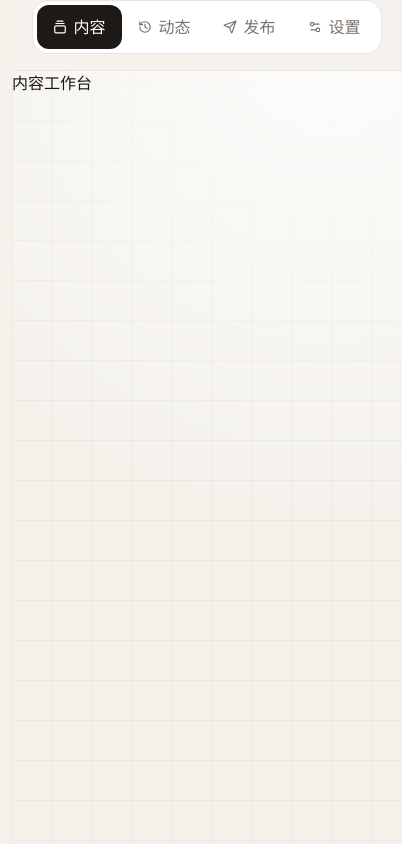
移动端工作台导航 › 点击标签切换工作台
Note: Radix Tabs 在按下时激活，与原生标签控件的行为一致。
Press the mouse on the tab "动态" at point(164, 27), box x1=122 y1=5 x2=207 y2=49
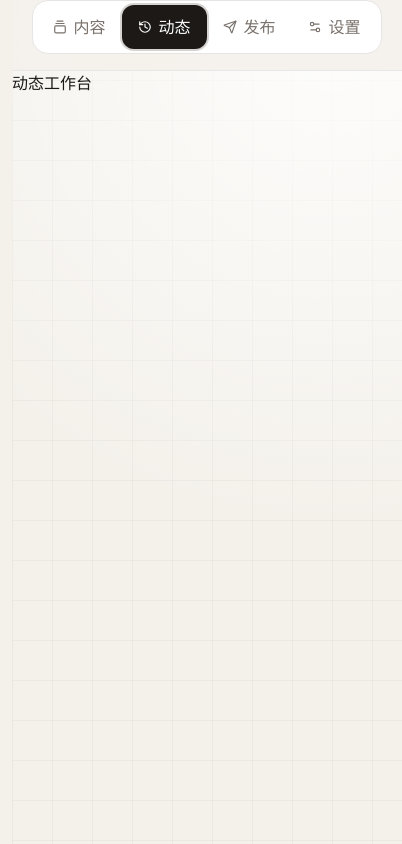
Press the mouse on the tab "发布" at point(250, 27), box x1=207 y1=5 x2=292 y2=49
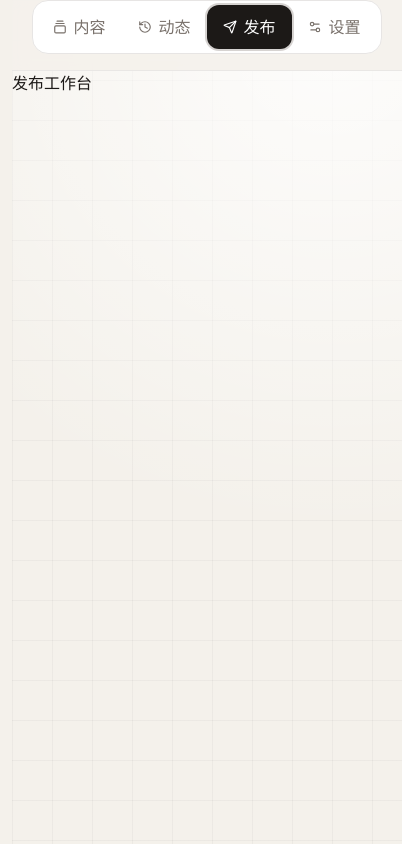
Now the panel reads "发布工作台", box x1=12 y1=73 x2=92 y2=93
